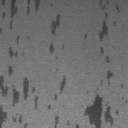red iron: (0, 0, 66, 128), (83, 0, 120, 80), (54, 94, 119, 128), (48, 14, 62, 54), (120, 83, 124, 87)
